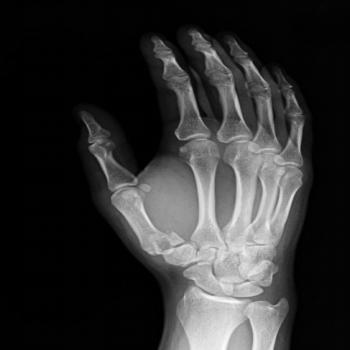Fracture: (152, 229, 192, 250)
